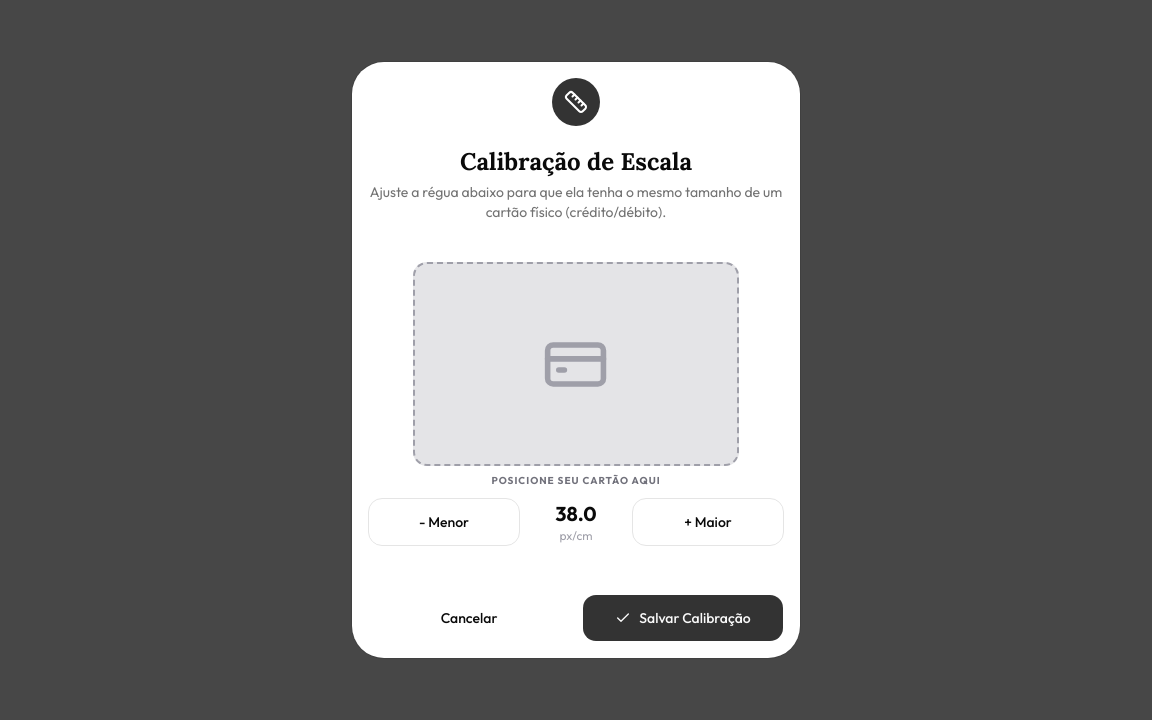
Test: CalibrationOverlay › should decrease pixelsPerCm when clicking "- Menor"
Click the button "- Menor".
click(444, 522)  # box x1=368 y1=498 x2=520 y2=546
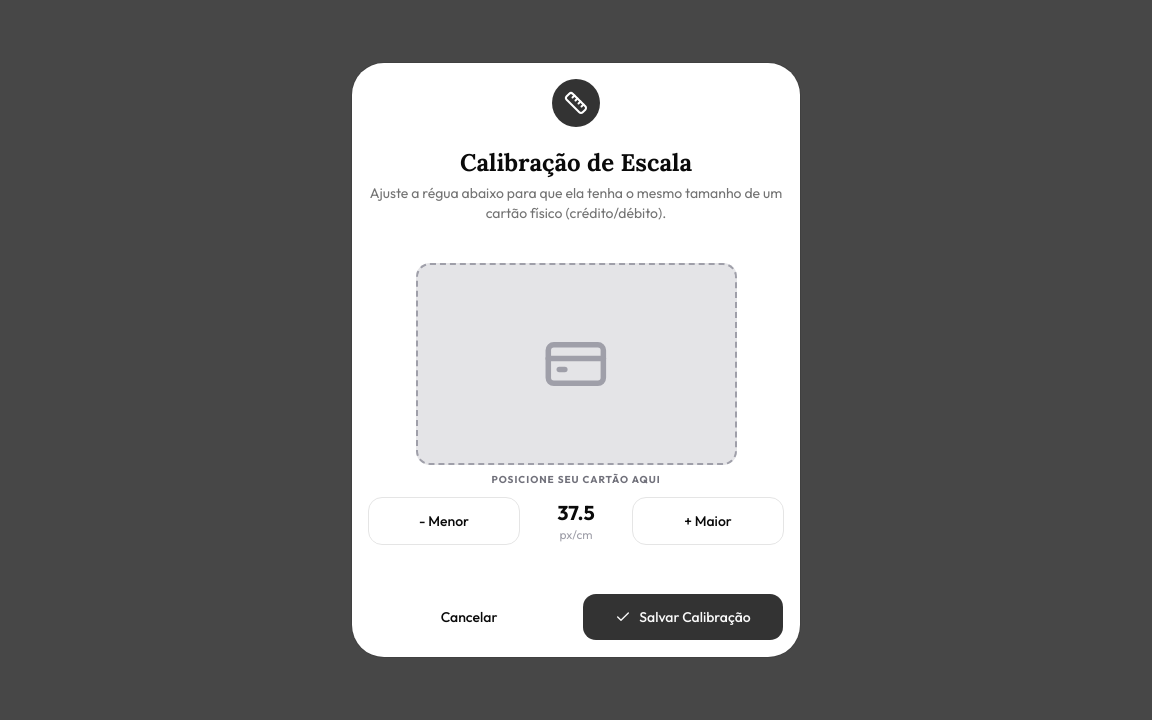
expect the text "37.5" is shown: met, box x1=557 y1=500 x2=595 y2=525
